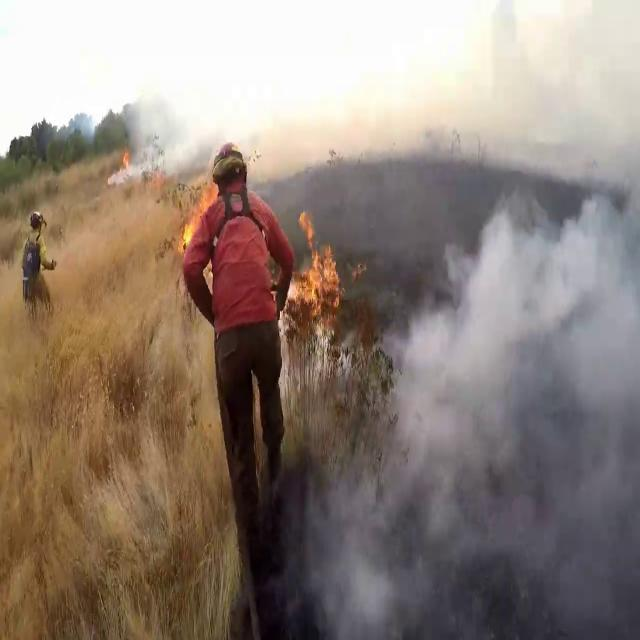Fire: (290, 206, 344, 326), (176, 170, 216, 254)
Smoke: (326, 40, 640, 634)
